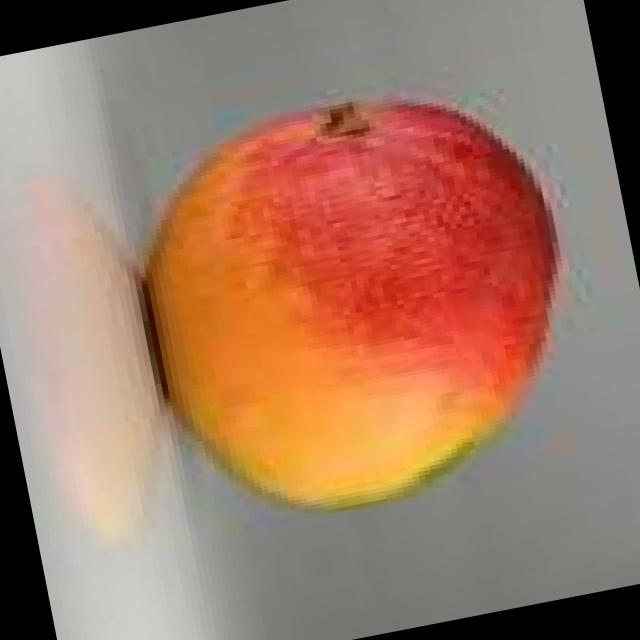mango: (146, 105, 555, 510)
